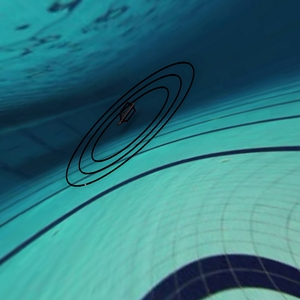circle: (53, 55, 221, 201)
submarine: (113, 96, 140, 129)
